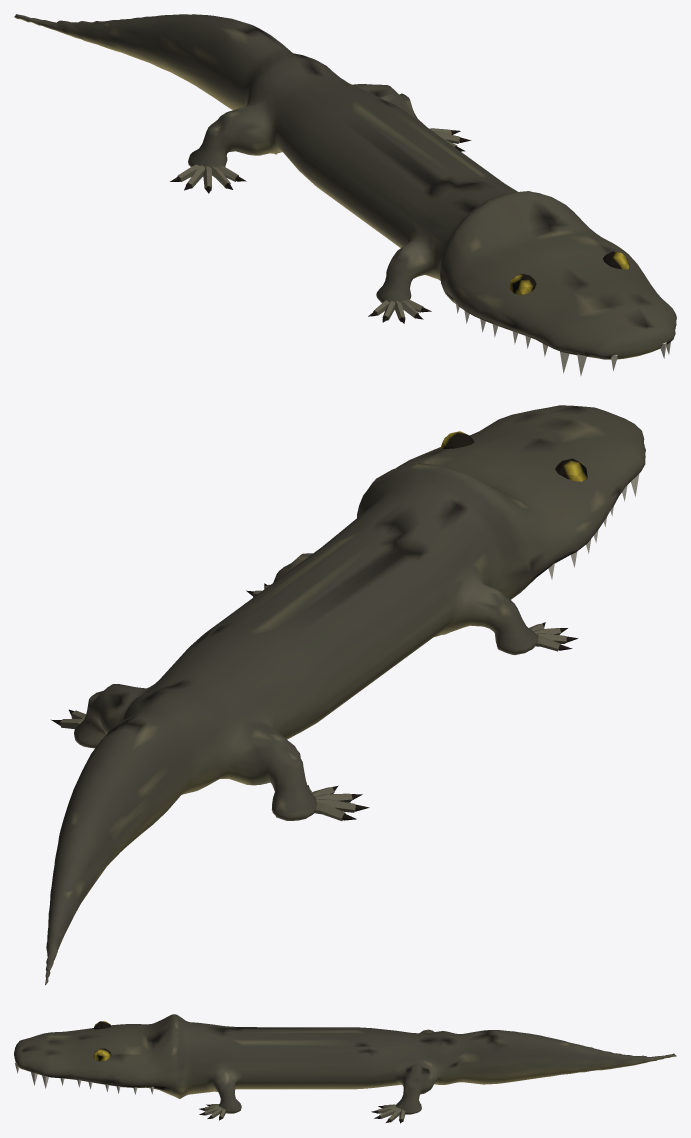
Rendered from Megalocephalus.fbx.
3 views of the same model, one above another, from view 1: azimuth 30°, elevation 25°; view 2: azimuth 150°, elevation 25°; view 3: azimuth 270°, elevation 25° (orthographic). The views are drawn at different scales.
Visible parts, largest first — view 1: Megalocephalus; view 2: Megalocephalus; view 3: Megalocephalus.
Part boxes in pixels (x1,y1,x2,y2): Megalocephalus: [14, 14, 676, 376]; Megalocephalus: [45, 405, 645, 985]; Megalocephalus: [14, 1014, 676, 1123].
Bounding box in the file's own units: 0.3507 × 0.1524 × 1.21.
